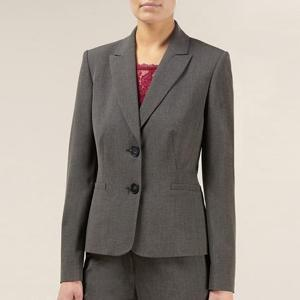F_M_suit jacket: (63, 29, 237, 275)
